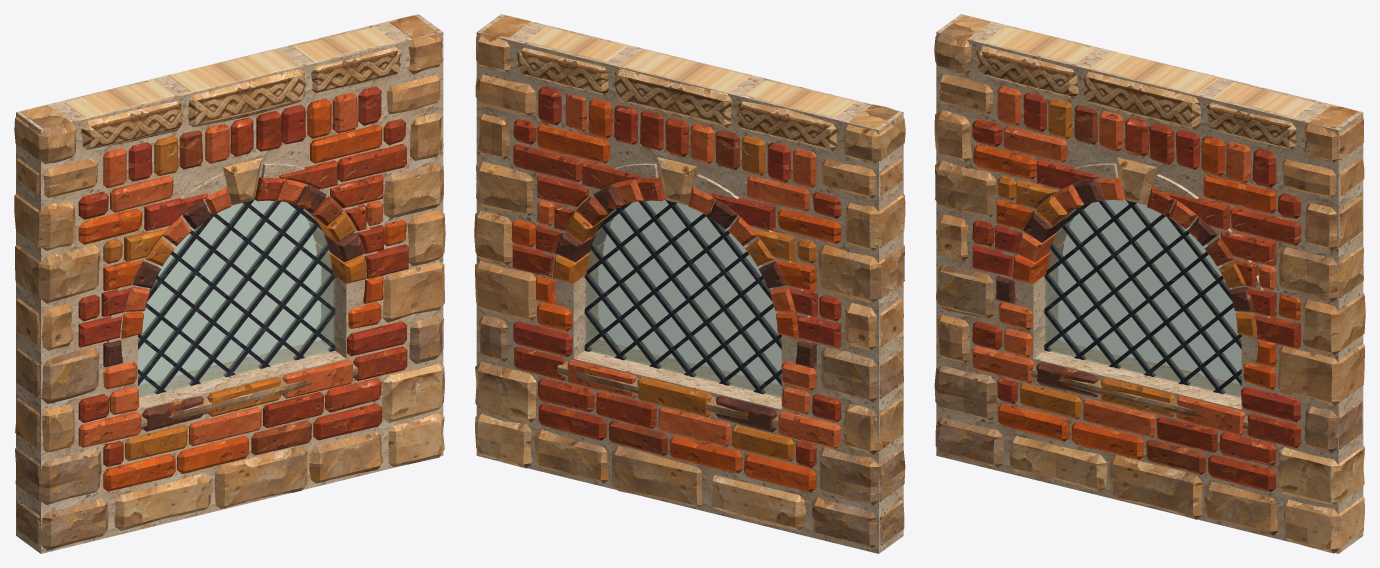
The model's file is window_wall__clay_brick.glb.
3 views of the same model, side by side, from view 1: azimuth 30°, elevation 25°; view 2: azimuth 150°, elevation 25°; view 3: azimuth 330°, elevation 25° (orthographic).
Visible parts, largest first — view 1: model; view 2: model; view 3: model.
Boxes of the visible parts, left/top/right/bottom form: model: left=14, top=14, right=445, bottom=553; model: left=474, top=14, right=905, bottom=553; model: left=934, top=14, right=1365, bottom=553.
Bounding box in the file's own units: 1.98 × 1.98 × 0.2872.
Materials: 16 (15 with a texture image).
